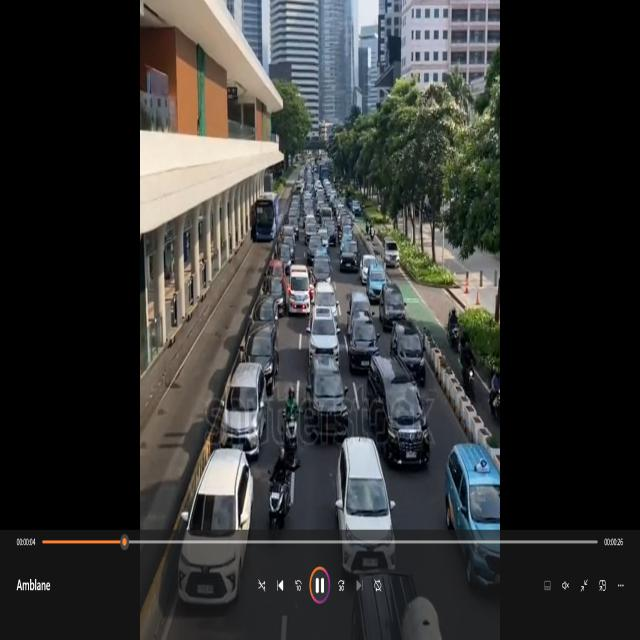Ambulance: (286, 260, 314, 321)
